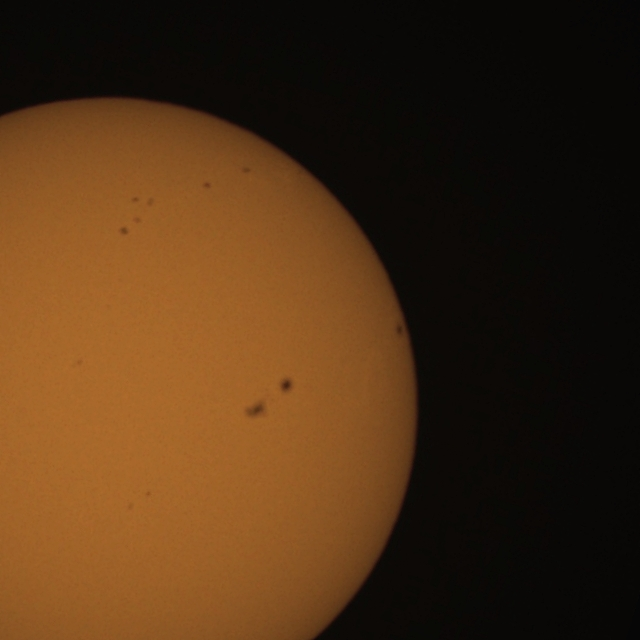sunspot: (241, 383, 291, 422), (242, 398, 269, 421), (118, 215, 142, 237), (130, 195, 155, 209), (279, 376, 295, 396), (394, 321, 405, 339), (118, 225, 130, 237), (240, 165, 252, 175), (201, 180, 212, 190), (130, 195, 140, 204)
